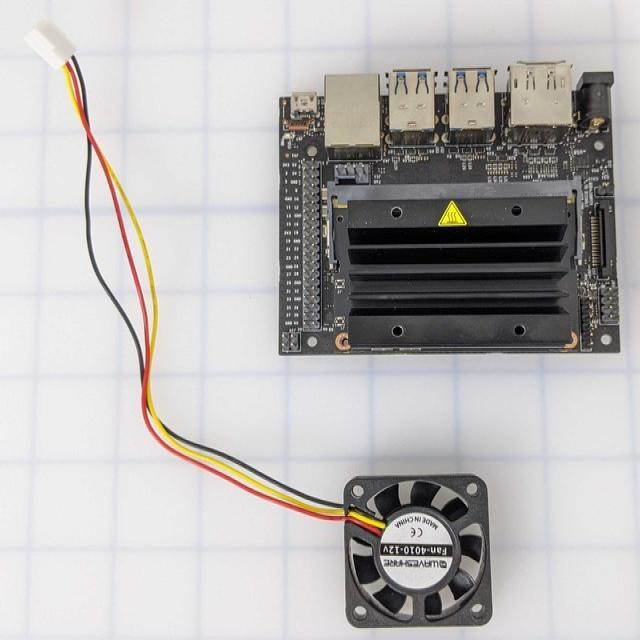Jetson Nano: (280, 64, 622, 356)
